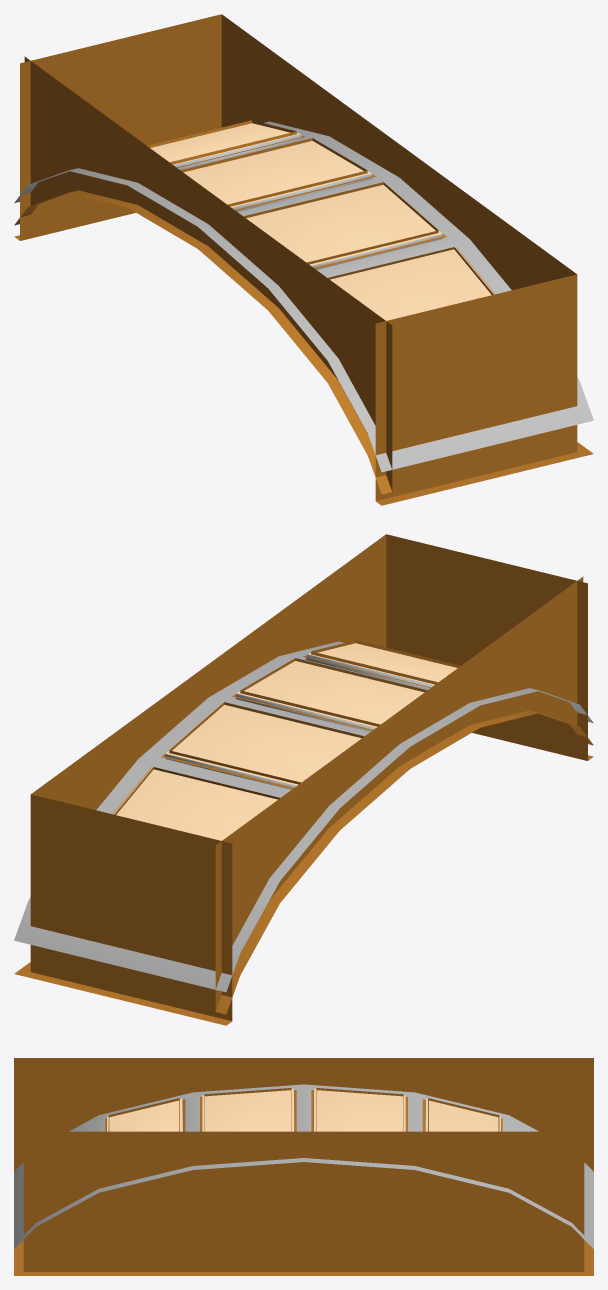
The model's file is ceilingSkylightEdge.glb.
The picture shows the model from 3 angles, top to bottom: view 1: azimuth 30°, elevation 25°; view 2: azimuth 150°, elevation 25°; view 3: azimuth 270°, elevation 25°; orthographic projection. The views are drawn at different scales.
Parts seen in each view (by area): view 1: ceilingSkylightEdge; view 2: ceilingSkylightEdge; view 3: ceilingSkylightEdge.
Part boxes in pixels (x1,y1,x2,y2): ceilingSkylightEdge: [14, 14, 593, 505]; ceilingSkylightEdge: [14, 534, 593, 1025]; ceilingSkylightEdge: [14, 1058, 593, 1275].
Bounding box in the file's own units: 20 × 16 × 60.
